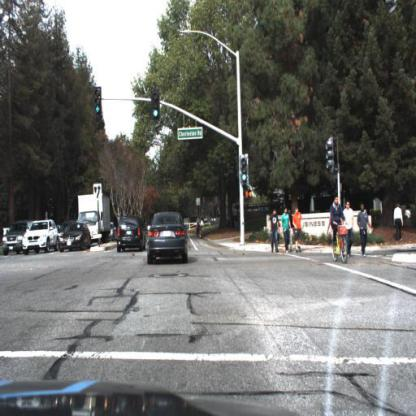biker: (328, 195, 352, 268), (331, 193, 345, 266)
car: (147, 211, 188, 265), (23, 219, 59, 255), (118, 215, 145, 253), (59, 224, 93, 253), (3, 220, 28, 256), (112, 225, 117, 243)
pedestrian: (335, 202, 346, 259), (358, 203, 369, 257), (270, 207, 280, 257), (294, 204, 304, 253), (281, 207, 291, 254), (195, 212, 206, 243), (195, 217, 203, 240)
trafficLight: (91, 86, 103, 118), (151, 88, 161, 122), (241, 154, 250, 186)
trafficLight-Green: (151, 89, 162, 120)
trafficLight-GreenLeft: (93, 85, 103, 118)
truck: (80, 195, 110, 243)
